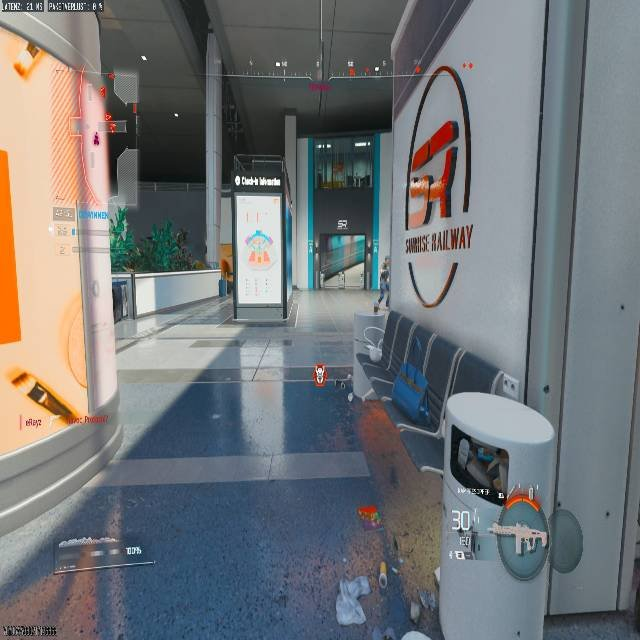head: (384, 255, 391, 265)
player: (377, 255, 392, 306)
